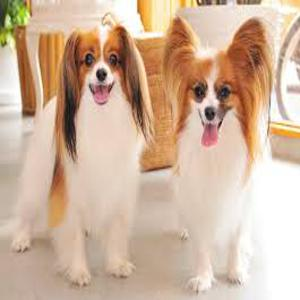yell: (12, 23, 155, 285)
